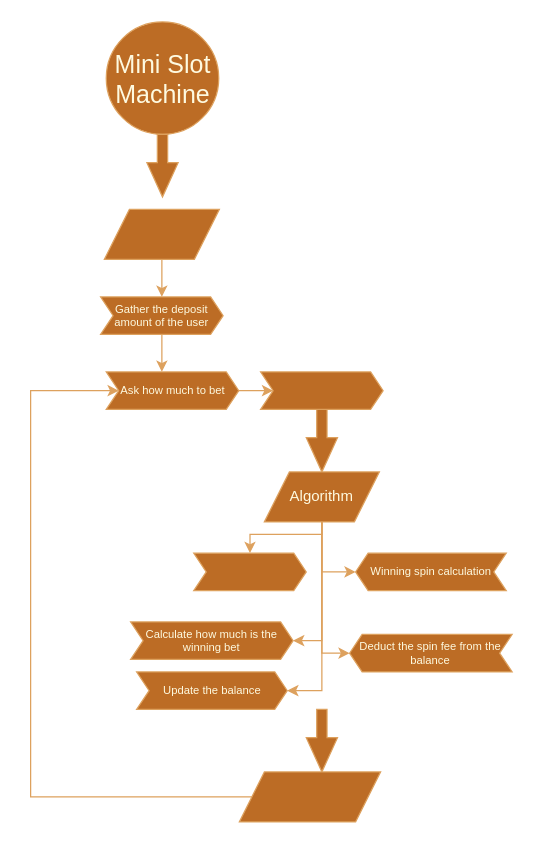
The diagram is 535 pixels wide and 844 high, and some of its shapes have lost their labels. Each missing label, with the centre of its shape:
Check for balance: [321,390]
From the start: [309,796]
Randomize the roll [A, B, C]: [249,571]
User Input: [161,233]
